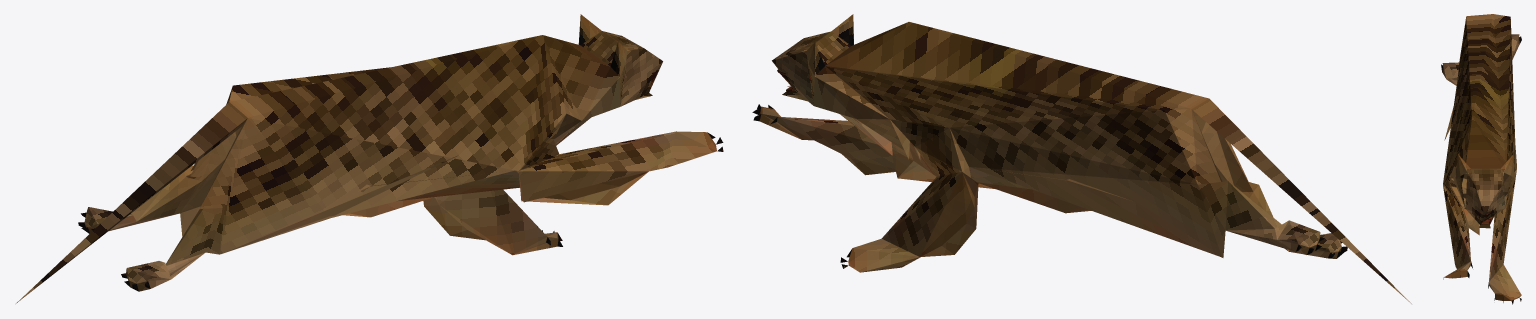
3 views of the same model, side by side, from view 1: azimuth 30°, elevation 25°; view 2: azimuth 150°, elevation 25°; view 3: azimuth 270°, elevation 25° (orthographic). The views are drawn at different scales.
Parts seen in each view (by area): view 1: Object_7; view 2: Object_7; view 3: Object_7.
Boxes of the visible parts, bbox=[...] form: Object_7: bbox=[16, 14, 723, 303]; Object_7: bbox=[752, 14, 1411, 303]; Object_7: bbox=[1441, 14, 1521, 304].
Size of the model in its own units: 69.67 by 22.66 by 9.66.
Materials: 1 (1 with a texture image).
